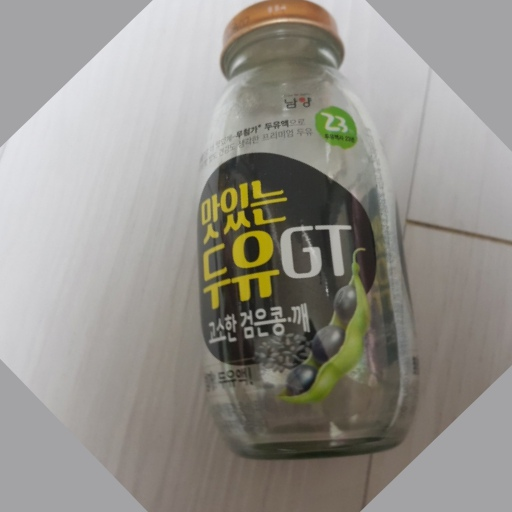Glass_4: (192, 1, 424, 461)
